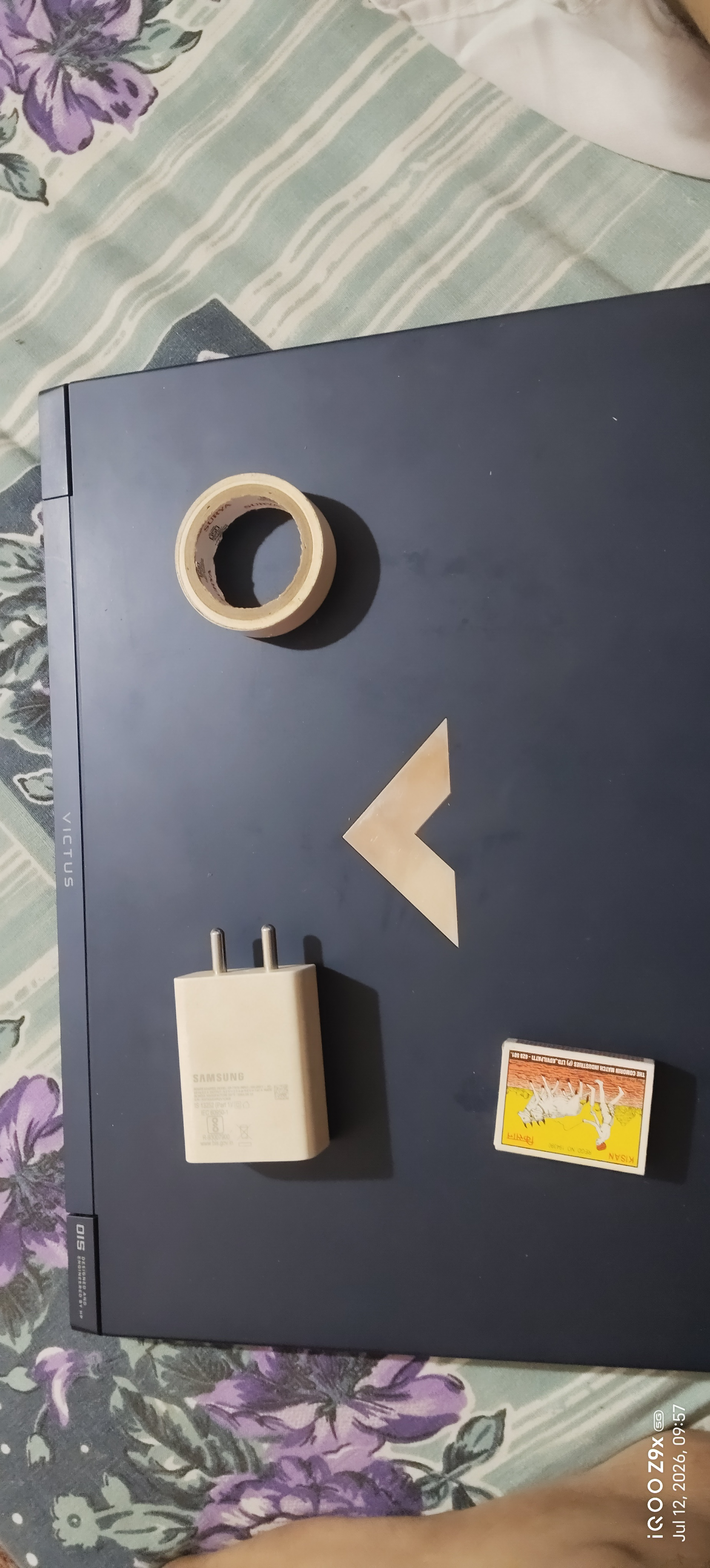charger: (139, 901, 365, 1226)
matchbox: (469, 1012, 684, 1220)
tape_roll: (151, 452, 356, 672)
